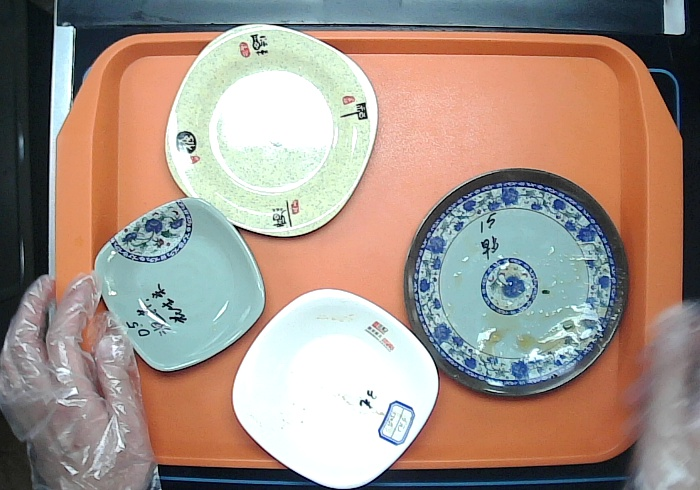NLDX-Bai_Se_Xiao_Fang_Die: (232, 289, 439, 490)
NLDX-Fu_Zi_Fang_Die: (163, 24, 381, 238)
NLDX-Qing_Hua_Xiao_Fang_Die: (94, 197, 265, 373)
NLDX-Qing_Hua_Yuan_Die: (402, 167, 631, 398)
